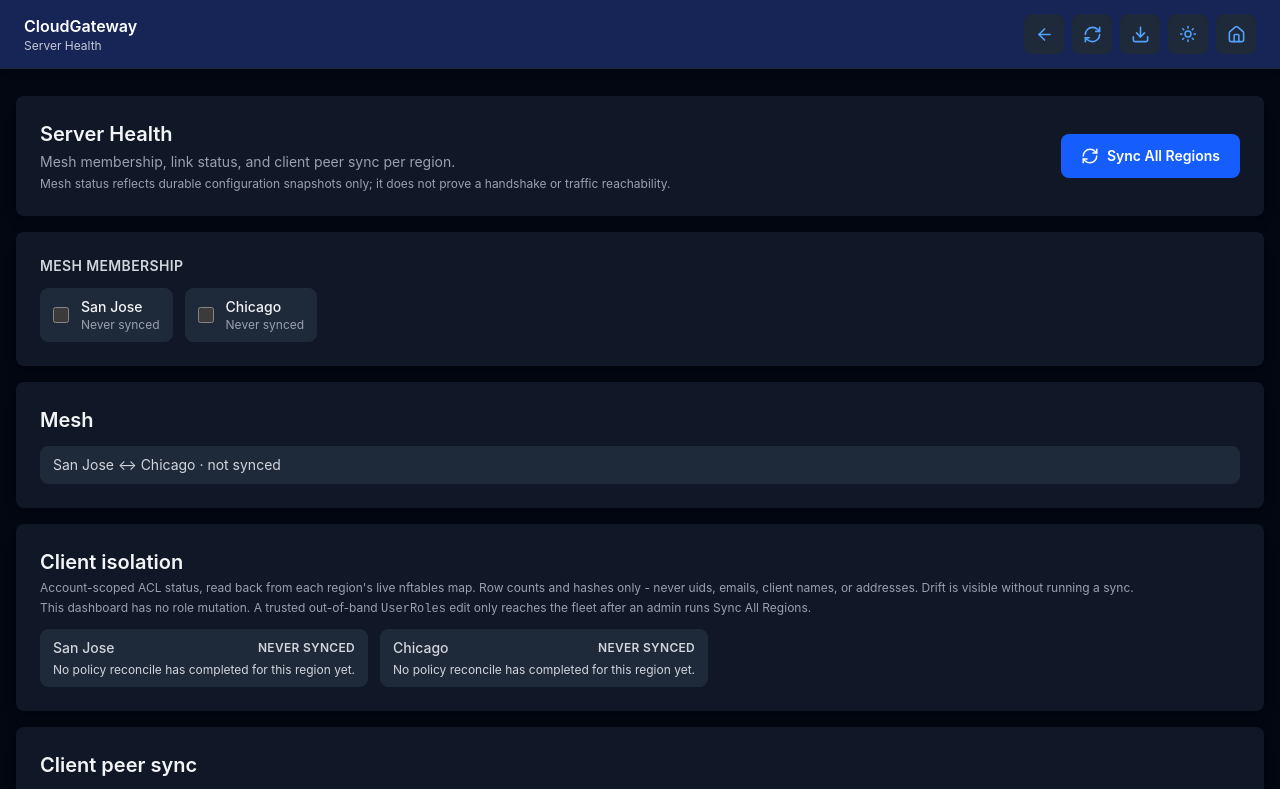
Test: ServerHealth › writes a meshEnabled toggle to Firestore and marks the affected link pending
The width and height of the screenshot is (1280, 789).
Expected: the list item "San Jose ↔ Chicago · not synced" is shown, x1=40 y1=446 x2=1240 y2=484
Click the checkbox named "Mesh enabled for San Jose".
click(61, 315)  # box x1=53 y1=307 x2=69 y2=323
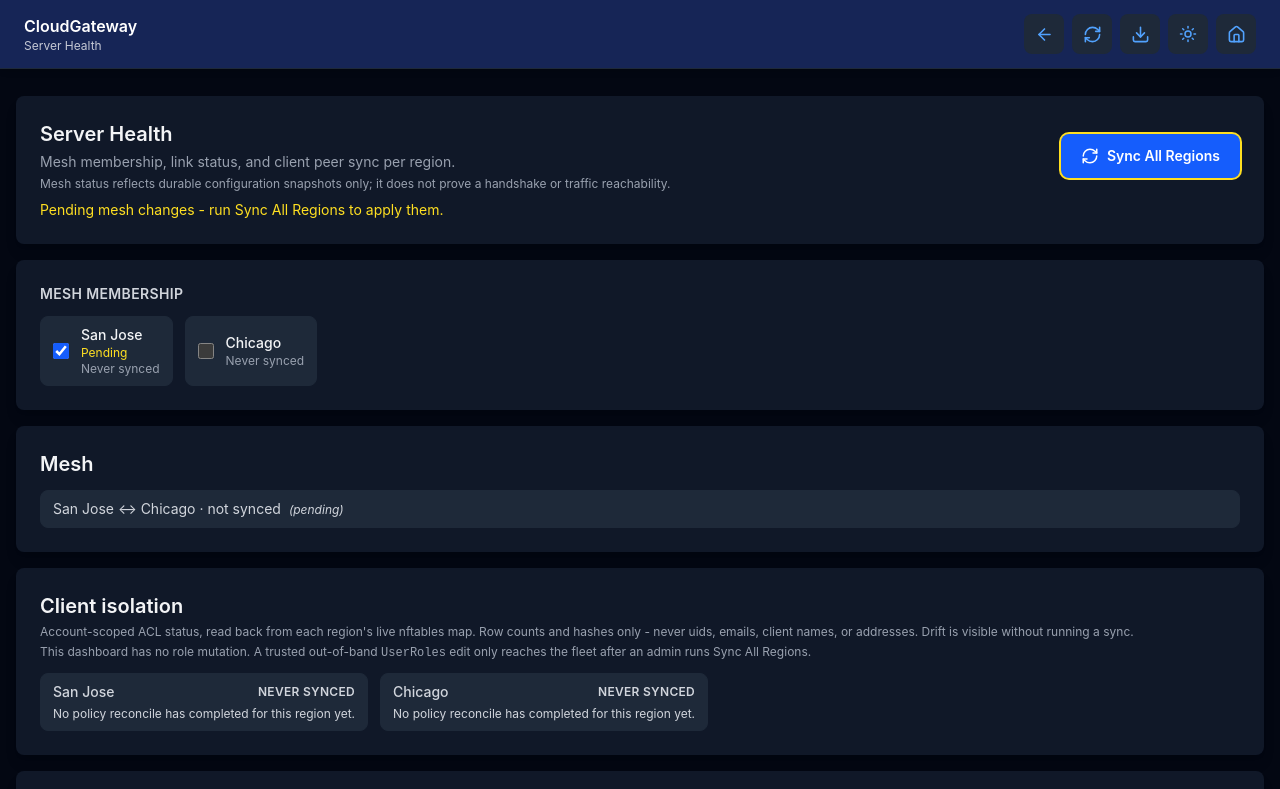
Expected: the list item "San Jose ↔ Chicago · not synced" is shown, x1=53 y1=500 x2=281 y2=517
Now the text "Pending" is shown once, box x1=81 y1=345 x2=127 y2=360
Now the text "(pending)" is shown, box x1=289 y1=502 x2=344 y2=517
